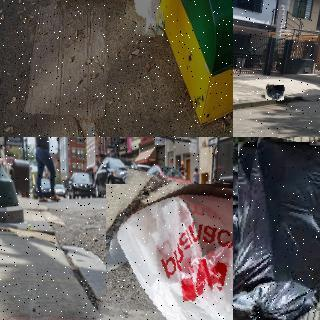Garbage: (97, 176, 233, 320), (233, 138, 320, 320), (123, 0, 168, 36), (233, 192, 246, 315), (265, 84, 285, 101)
